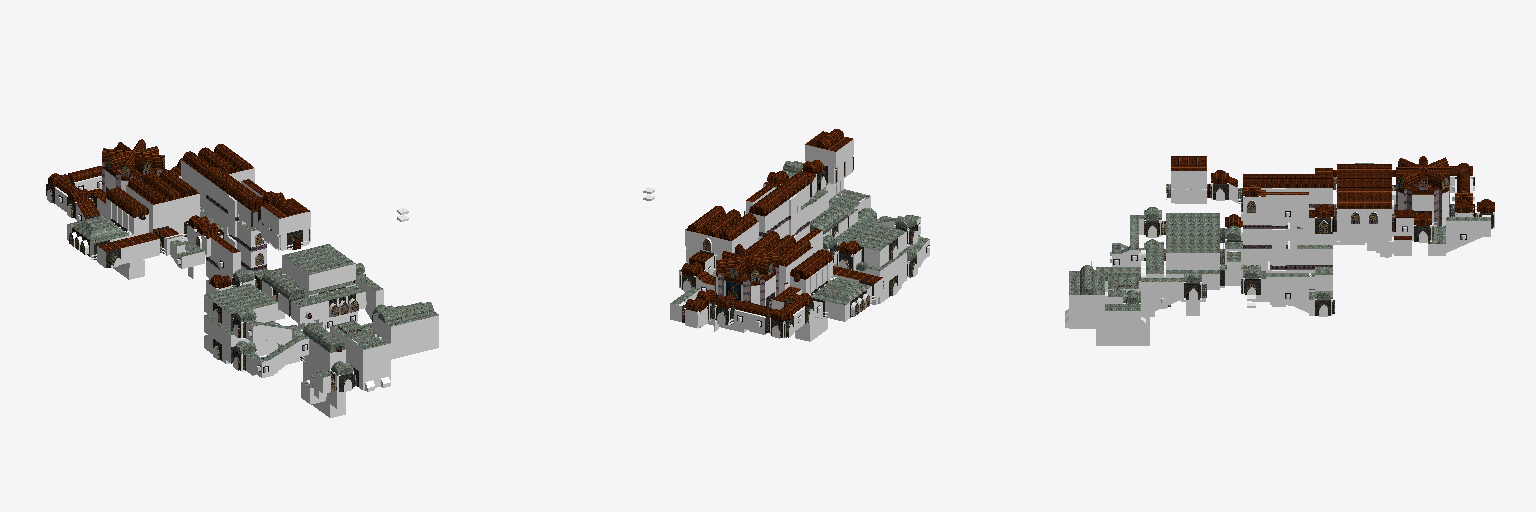
The picture shows the model from 3 angles: view 1: azimuth 30°, elevation 25°; view 2: azimuth 150°, elevation 25°; view 3: azimuth 270°, elevation 25°; orthographic projection.
Visible parts, largest first — view 1: Group1, Group11, Group3, Group2, Group15, Group19; view 2: Group1, Group3, Group11, Group2, Group33; view 3: Group1, Group3, Group11, Group2, Group9, Group15, Group19, Group22, Group33.
Boxes of the visible parts, box(x1,y1,x2,y2) form: Group1: box(46, 160, 438, 417); Group11: box(68, 210, 438, 387); Group3: box(48, 139, 309, 288); Group2: box(46, 179, 372, 391); Group15: box(76, 204, 299, 375); Group19: box(69, 155, 358, 316); Group1: box(670, 139, 929, 341); Group3: box(679, 129, 882, 321); Group11: box(671, 161, 929, 305); Group2: box(680, 166, 916, 337); Group33: box(718, 267, 778, 305); Group1: box(1065, 171, 1494, 345); Group3: box(1171, 156, 1494, 239); Group11: box(1069, 163, 1490, 310); Group2: box(1145, 177, 1493, 315); Group9: box(1114, 177, 1476, 313); Group15: box(1122, 215, 1490, 316); Group19: box(1247, 176, 1448, 232); Group22: box(1243, 204, 1332, 289); Group33: box(1396, 184, 1449, 225).
Bounding box in the file's own units: 4480 × 2848 × 6112.
82 materials, 35 textured.